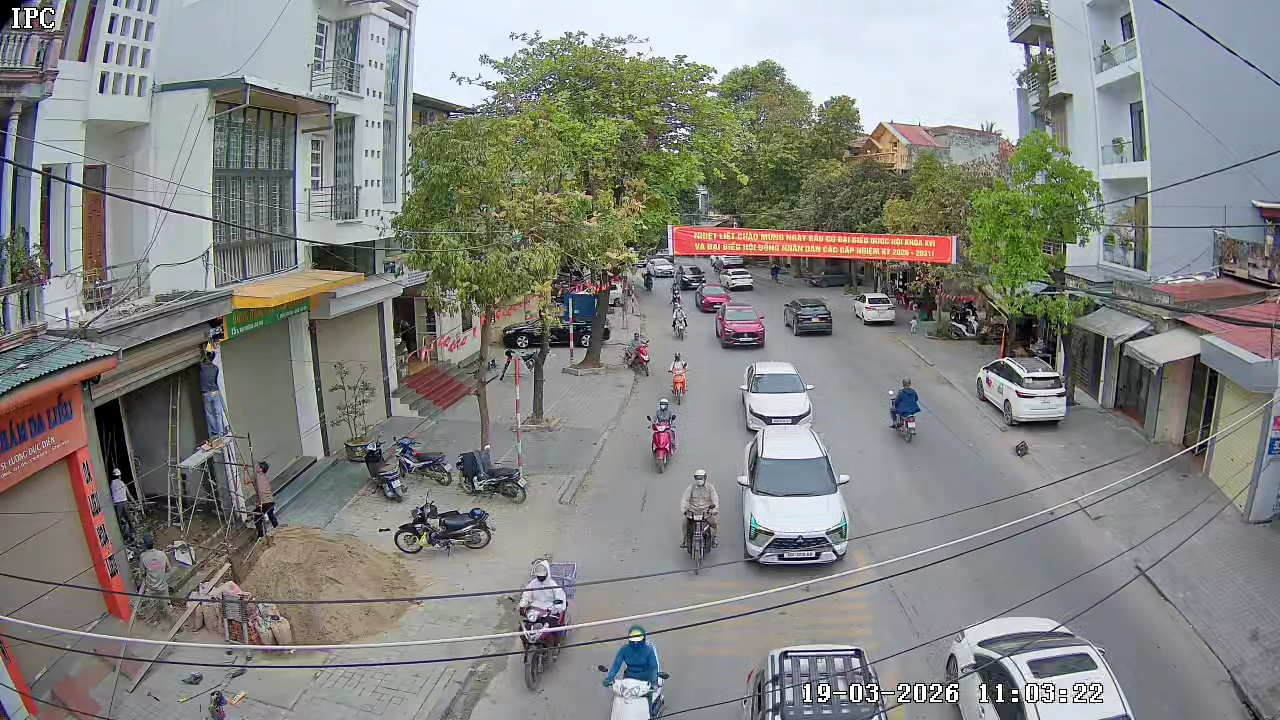car: (938, 613, 1138, 719), (737, 425, 852, 566), (728, 642, 894, 719), (975, 354, 1069, 429), (738, 358, 816, 431), (715, 300, 766, 350), (786, 296, 834, 336), (856, 293, 896, 326), (723, 264, 758, 292), (694, 284, 727, 313)
motorbike: (513, 556, 571, 691), (596, 625, 672, 719), (393, 493, 496, 556), (676, 467, 721, 575), (455, 441, 530, 504), (647, 396, 679, 474), (886, 376, 923, 443), (668, 352, 690, 405), (634, 334, 652, 378), (671, 306, 687, 339)
